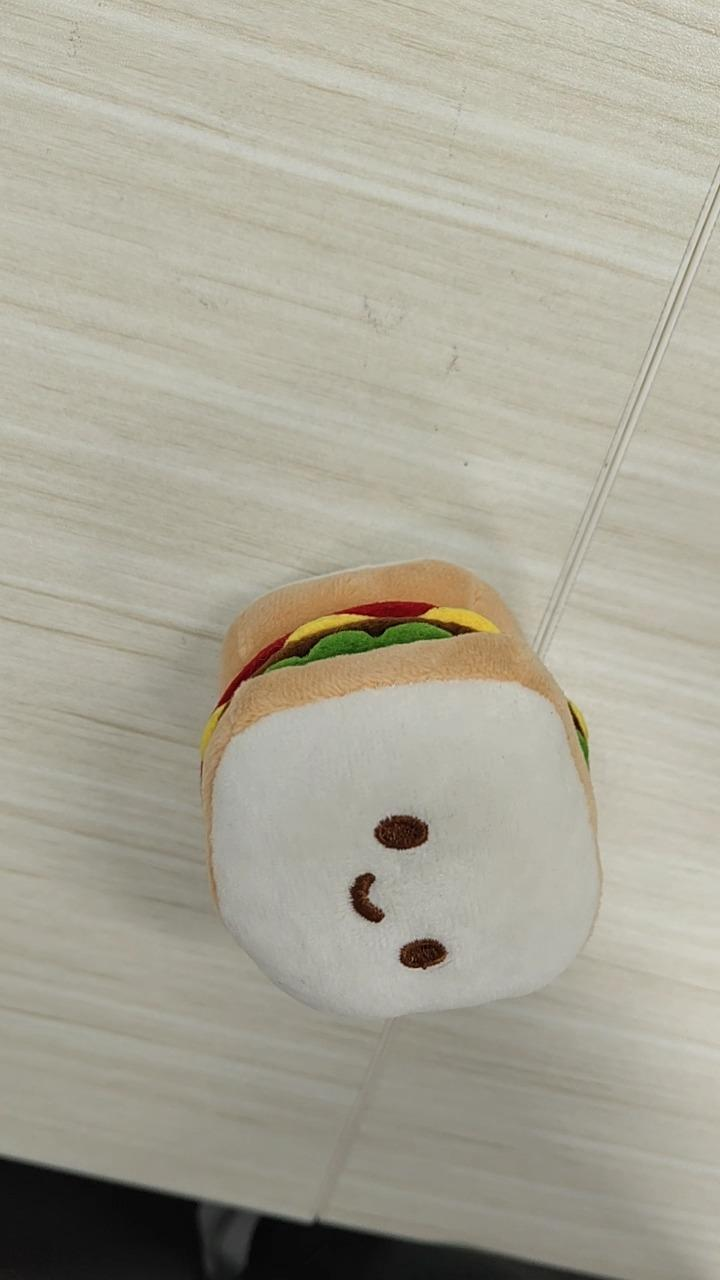objects: (198, 555, 603, 1021)
